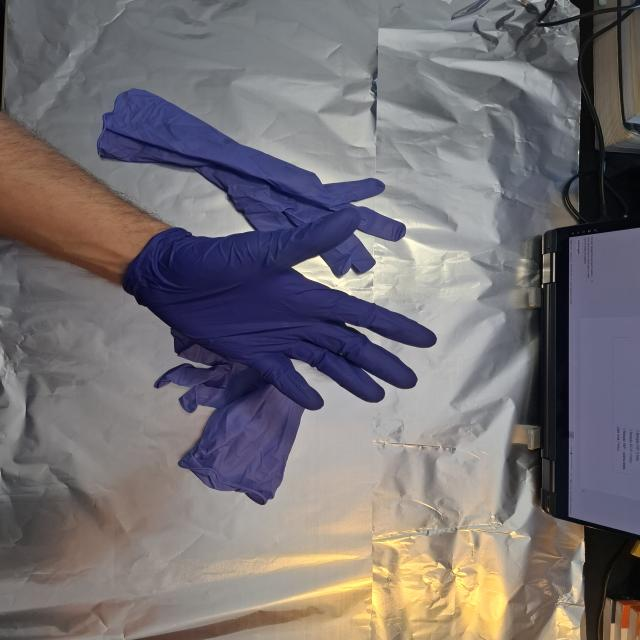glove_on: (118, 204, 440, 413)
